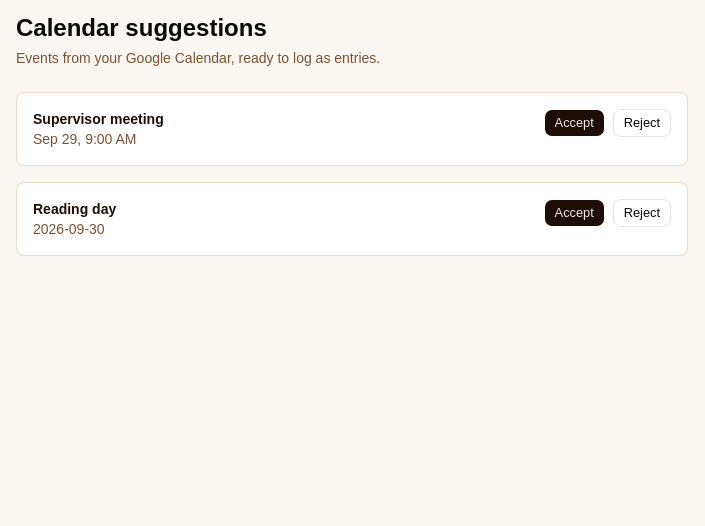
it: SuggestionsPage › says so when the chosen project has no fields, and closes on cancel
Click the button "Accept" in the row of "Reading day": (574,213) [544,199,605,227]
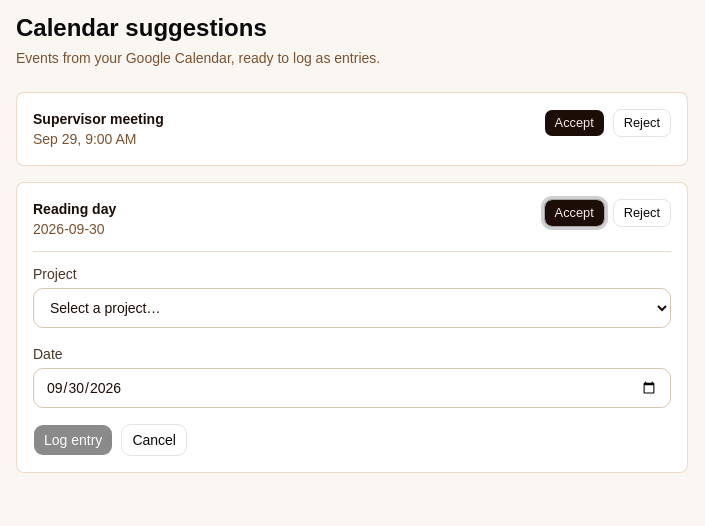
Select "Thesis" in the dropdown labelled "Project": (352,308) [33,288,671,328]
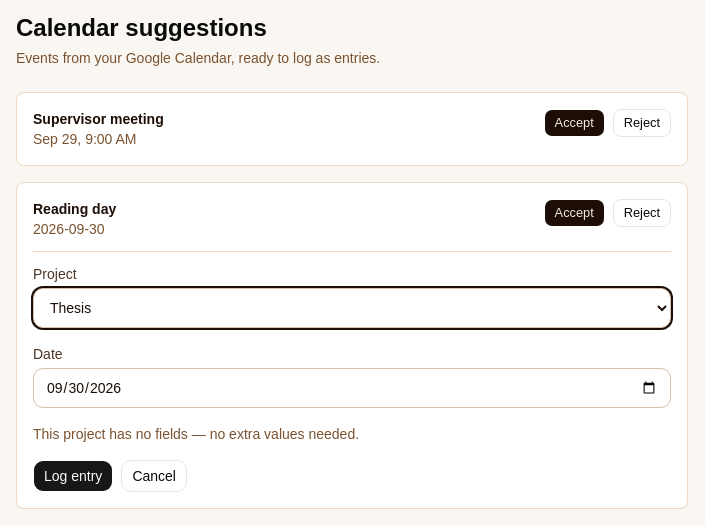
Result: the text "This project has no fields — no extra values needed." is shown at [33,426,359,442]
Click the button "Cancel": (154,476) [121,460,187,492]
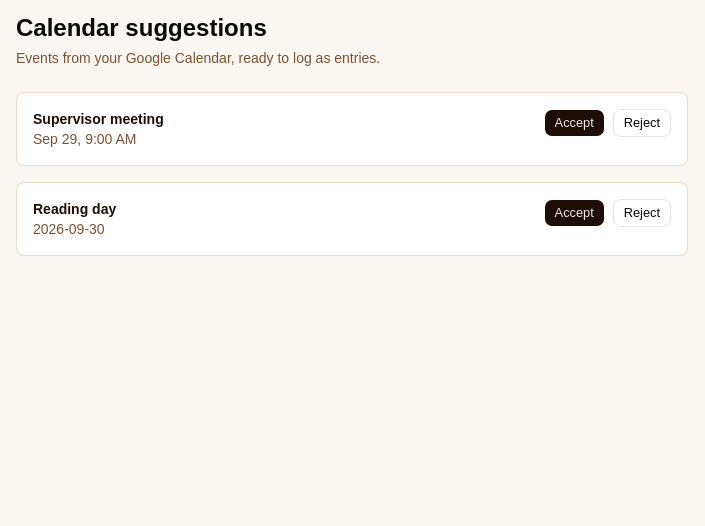
Result: the label labelled "Project" is gone
